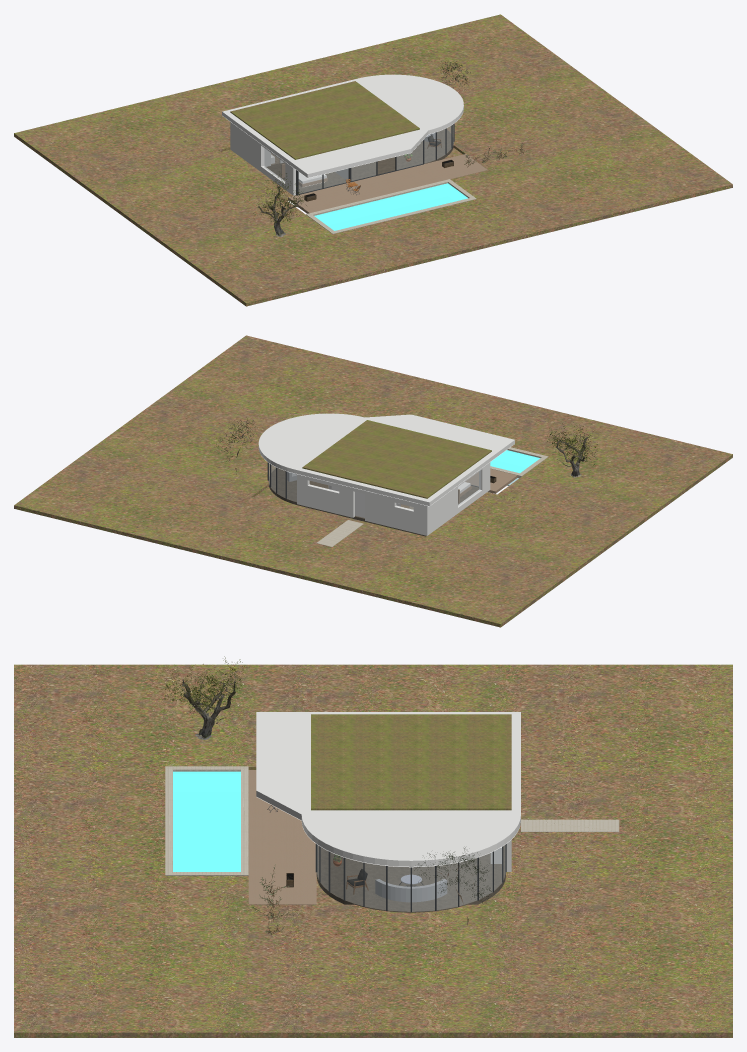
File: futur.glb
The picture shows the model from 3 angles, top to bottom: view 1: azimuth 30°, elevation 25°; view 2: azimuth 150°, elevation 25°; view 3: azimuth 270°, elevation 25°; orthographic projection. The views are drawn at different scales.
Parts seen in each view (by area): view 1: Ext, Shell, Water, Glass, Furn; view 2: Ext, Shell, Glass, Water, Furn; view 3: Ext, Shell, Glass, Water, Furn.
Boxes of the visible parts, x1=… form: Ext: x1=14, y1=14, x2=732, y2=306; Shell: x1=222, y1=74, x2=463, y2=195; Water: x1=314, y1=183, x2=467, y2=230; Glass: x1=264, y1=124, x2=453, y2=193; Furn: x1=271, y1=133, x2=441, y2=187; Ext: x1=14, y1=335, x2=732, y2=627; Shell: x1=258, y1=413, x2=514, y2=536; Glass: x1=268, y1=463, x2=480, y2=509; Water: x1=490, y1=450, x2=540, y2=473; Furn: x1=287, y1=471, x2=471, y2=517; Ext: x1=14, y1=656, x2=732, y2=1037; Shell: x1=256, y1=712, x2=520, y2=912; Glass: x1=317, y1=845, x2=505, y2=911; Water: x1=173, y1=771, x2=240, y2=871; Furn: x1=333, y1=847, x2=501, y2=902.
Bounding box in the file's own units: 46 × 6.38 × 38.
Materials: 41 (27 with a texture image).
